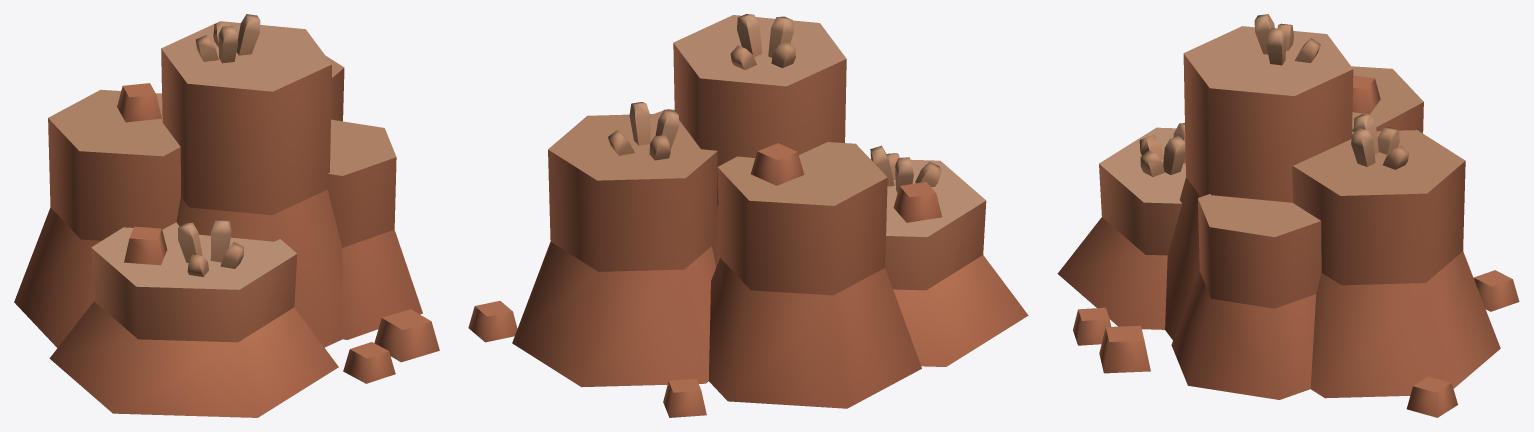
File: rocks-sand-c.glb
The picture shows the model from 3 angles, left to right: view 1: azimuth 30°, elevation 25°; view 2: azimuth 150°, elevation 25°; view 3: azimuth 270°, elevation 25°; orthographic projection. The views are drawn at different scales.
Visible parts, largest first — view 1: rocks-sand-c; view 2: rocks-sand-c; view 3: rocks-sand-c.
Part boxes in pixels (x1,y1,x2,y2): rocks-sand-c: (14, 14, 439, 417); rocks-sand-c: (468, 14, 1028, 417); rocks-sand-c: (1057, 14, 1519, 417).
Size of the model in its own units: 3.71 by 2.61 by 3.72.
